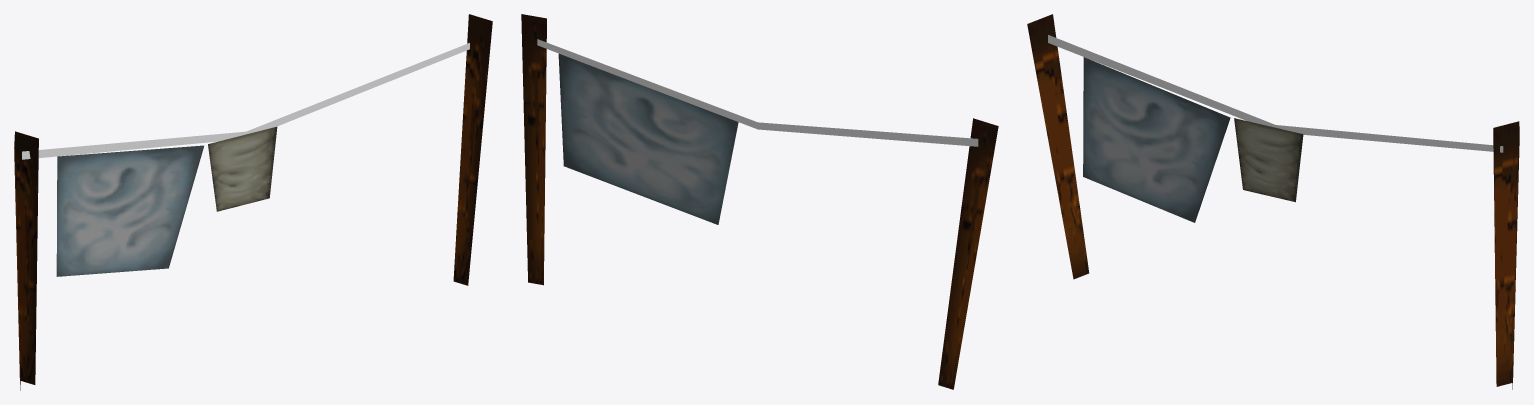
File: WäscheLeineGroß_338.glb
The picture shows the model from 3 angles, left to right: view 1: azimuth 30°, elevation 25°; view 2: azimuth 150°, elevation 25°; view 3: azimuth 330°, elevation 25°; orthographic projection. The views are drawn at different scales.
Parts seen in each view (by area): view 1: pPlaneShape88, pCylinderShape24, pCylinderShape25, pPlaneShape89, pPlaneShape87; view 2: pPlaneShape90, pCylinderShape25, pCylinderShape24, pPlaneShape87; view 3: pPlaneShape88, pCylinderShape24, pCylinderShape25, pPlaneShape89, pPlaneShape87.
Part boxes in pixels (x1=…): pPlaneShape88: x1=56, y1=145, x2=203, y2=276; pCylinderShape24: x1=453, y1=14, x2=492, y2=285; pCylinderShape25: x1=14, y1=131, x2=38, y2=390; pPlaneShape89: x1=208, y1=126, x2=277, y2=211; pPlaneShape87: x1=22, y1=43, x2=469, y2=159; pPlaneShape90: x1=558, y1=53, x2=738, y2=224; pCylinderShape25: x1=938, y1=118, x2=998, y2=389; pCylinderShape24: x1=521, y1=14, x2=546, y2=285; pPlaneShape87: x1=537, y1=39, x2=978, y2=146; pPlaneShape88: x1=1083, y1=57, x2=1230, y2=222; pCylinderShape24: x1=1493, y1=121, x2=1519, y2=389; pCylinderShape25: x1=1027, y1=14, x2=1089, y2=279; pPlaneShape89: x1=1234, y1=118, x2=1303, y2=202; pPlaneShape87: x1=1048, y1=35, x2=1503, y2=152.
Size of the model in its own units: 0.6871 by 0.3633 by 0.0682.
6 materials, 5 textured.
